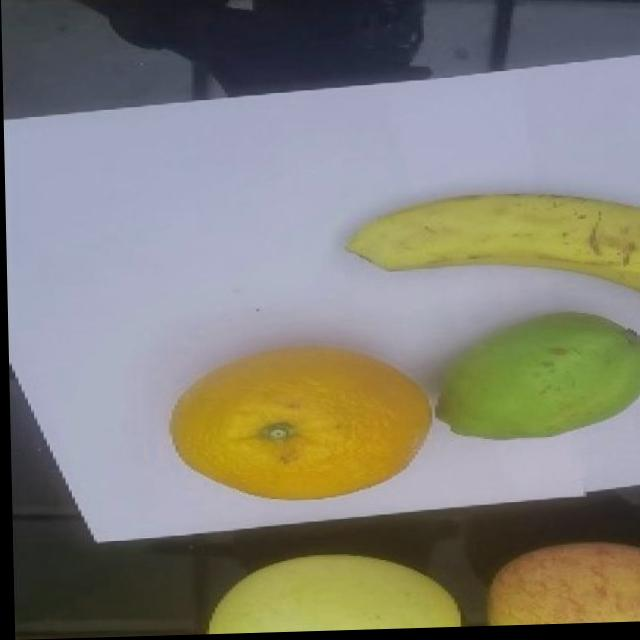Apple: (482, 542, 640, 628)
Banana: (343, 191, 640, 306)
Orange: (164, 343, 431, 505)
